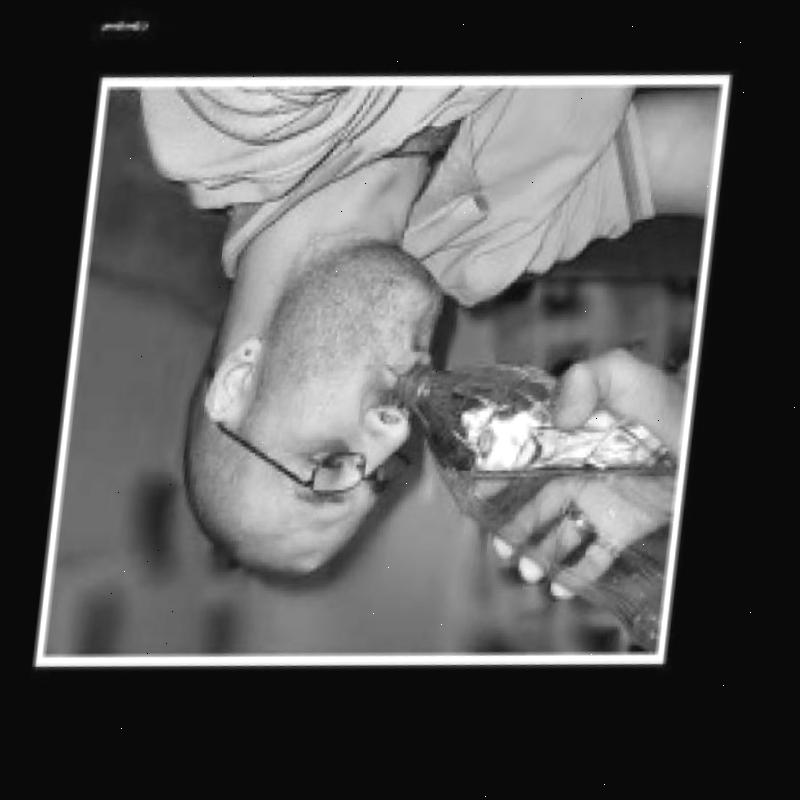botella: (371, 355, 695, 681)
